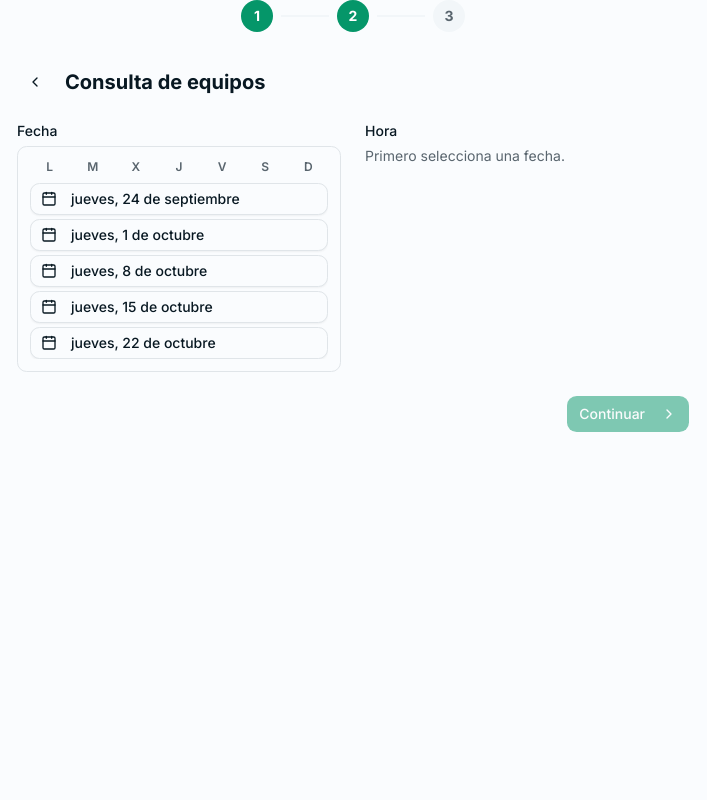
Test: BookingFlow - pago PayPal › muestra el botón PayPal en step 3 si paypalEnabled es true
Step 1. Click the button "jueves, 24 de septiembre" → point(179, 199), box [30,183,328,215]
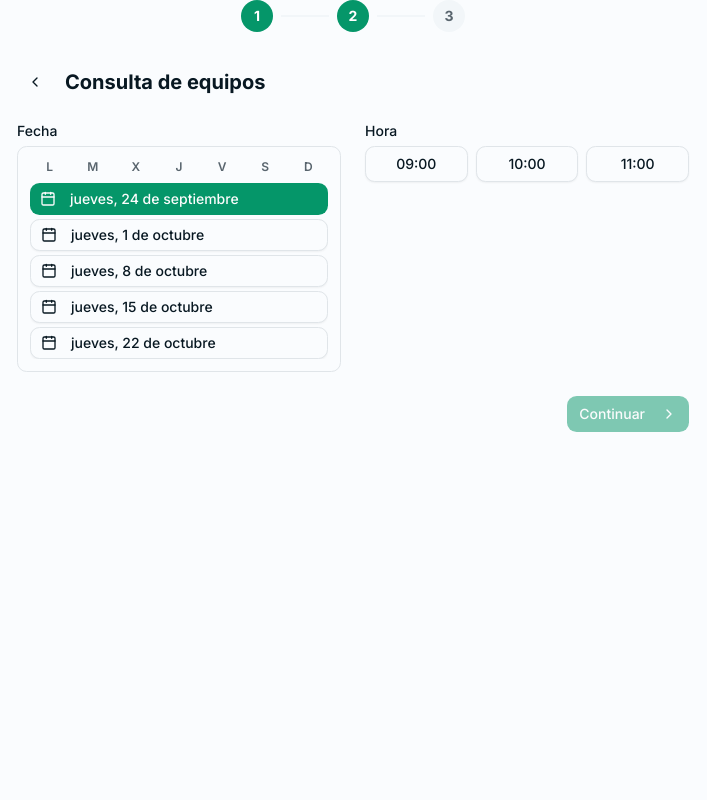
Step 2. Click the button "09:00" → point(416, 164), box [365,146,468,182]
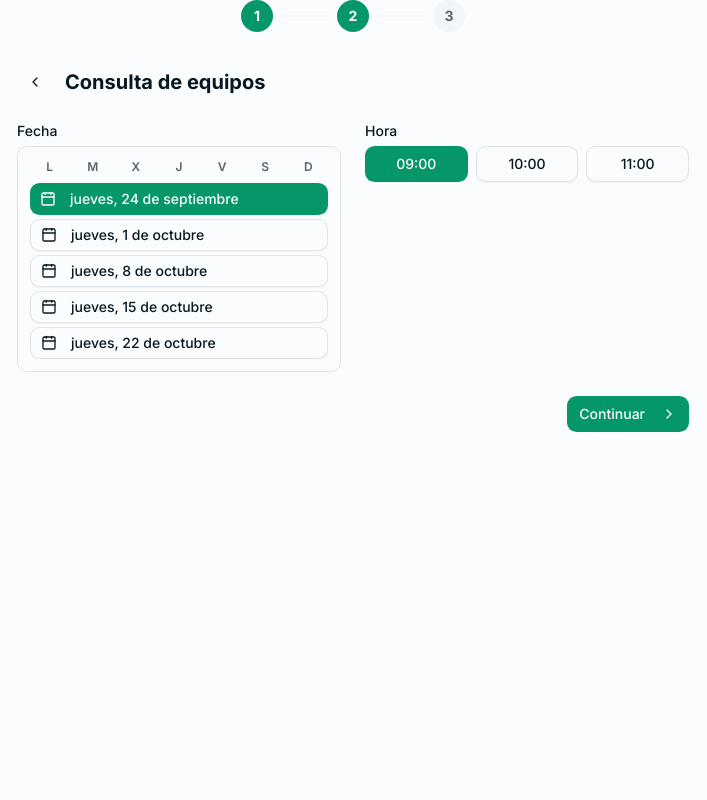
Step 3. Click the button "Continuar" → point(628, 414), box [567,396,689,432]
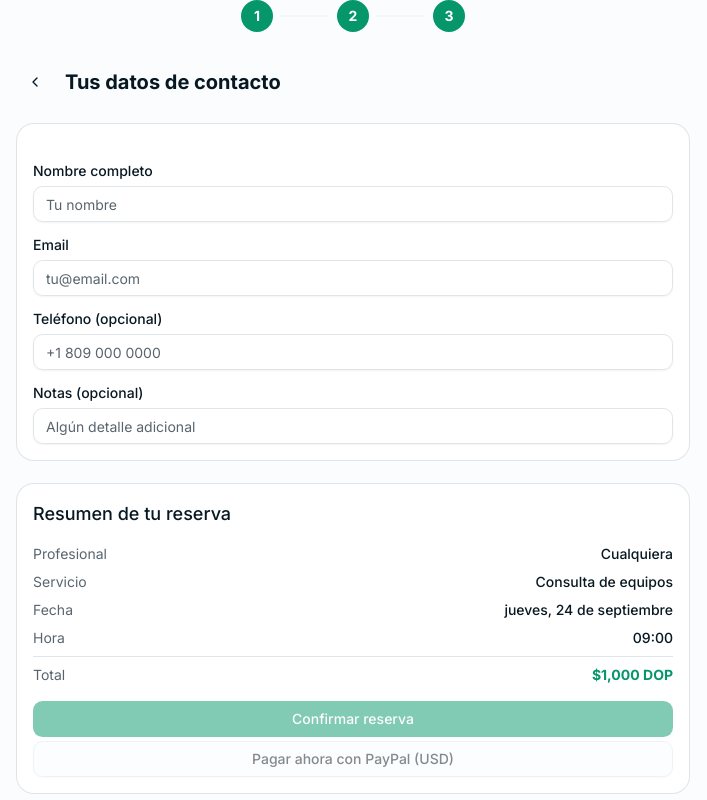
Expected: the heading "Tus datos de contacto" is shown, [65,68,281,96]
Expected: the button "Pagar ahora con PayPal (USD)" is shown, [33,741,673,777]
